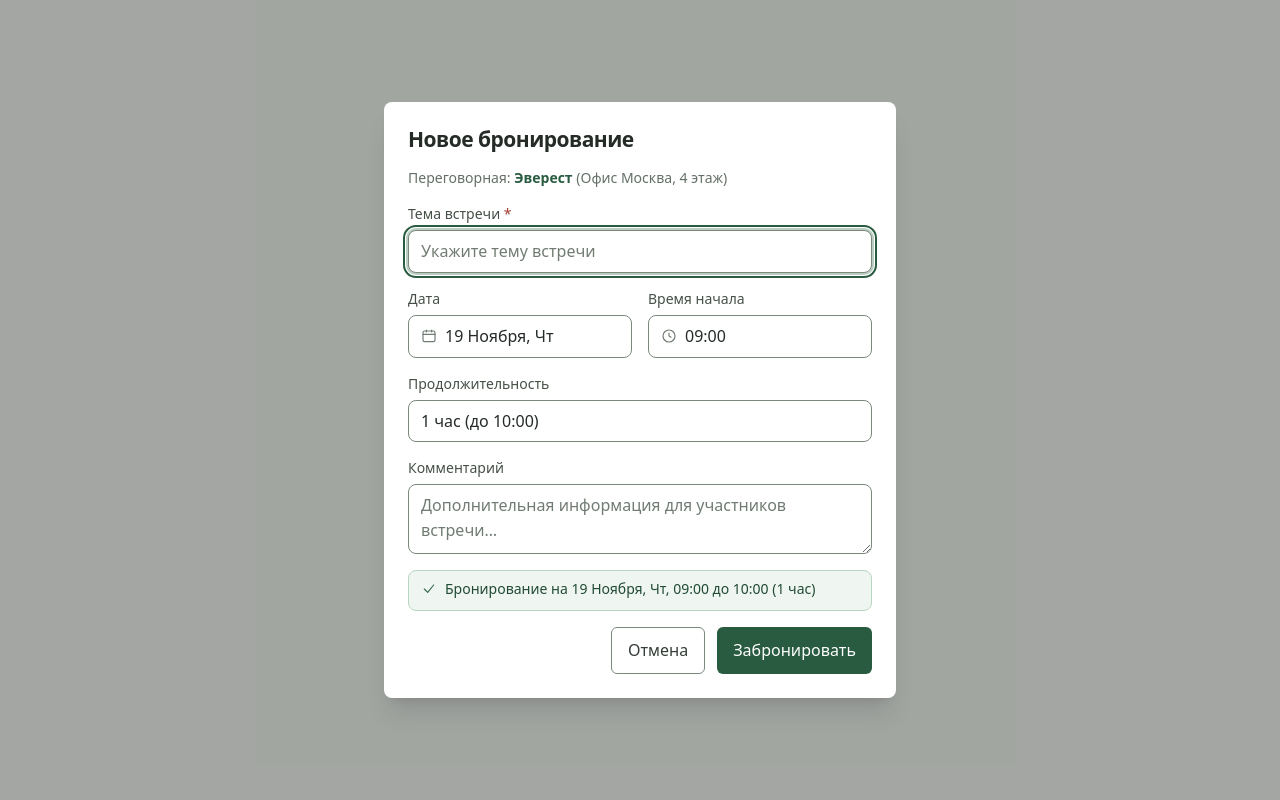
Test: BookingFormModal › показывает валидацию, если тема пустая
Click the button "Забронировать" at [795, 651], box [717,627,872,674]
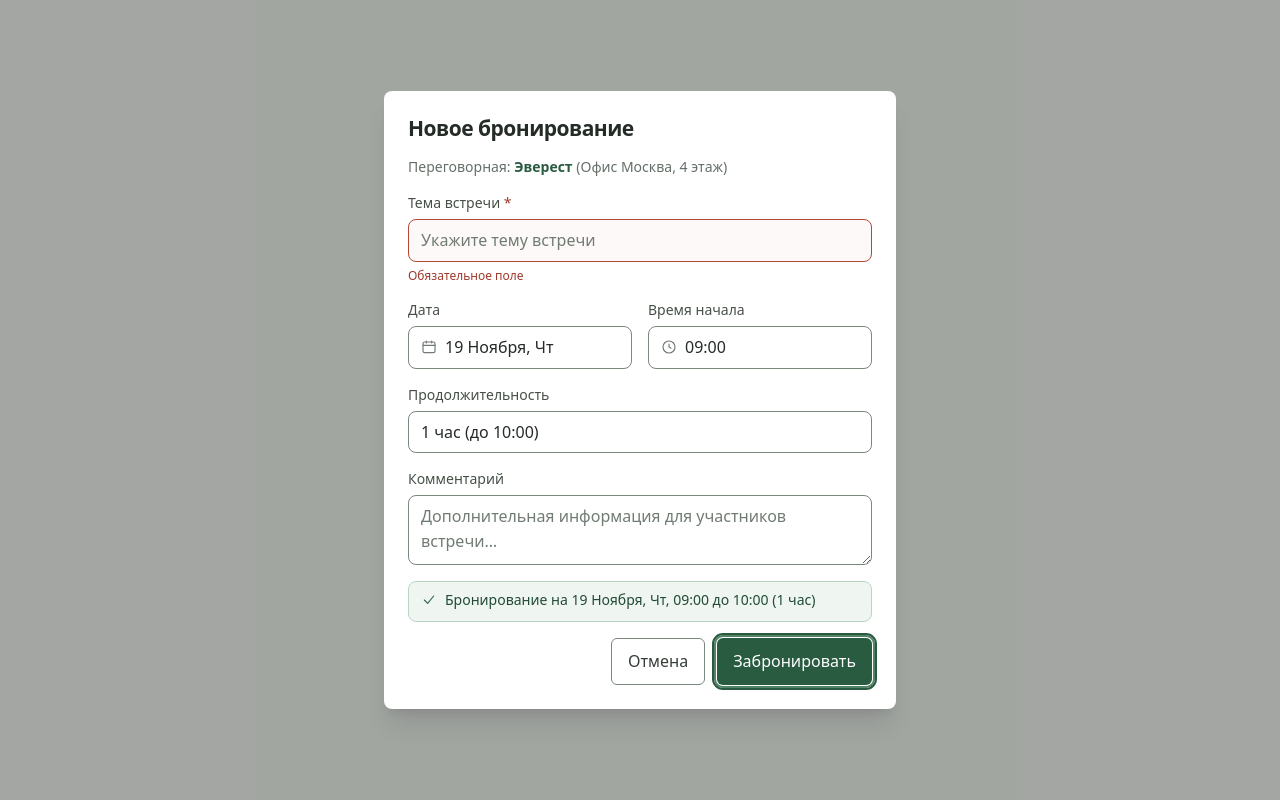
Result: the text "Обязательное поле" is shown at [408,267,524,284]
